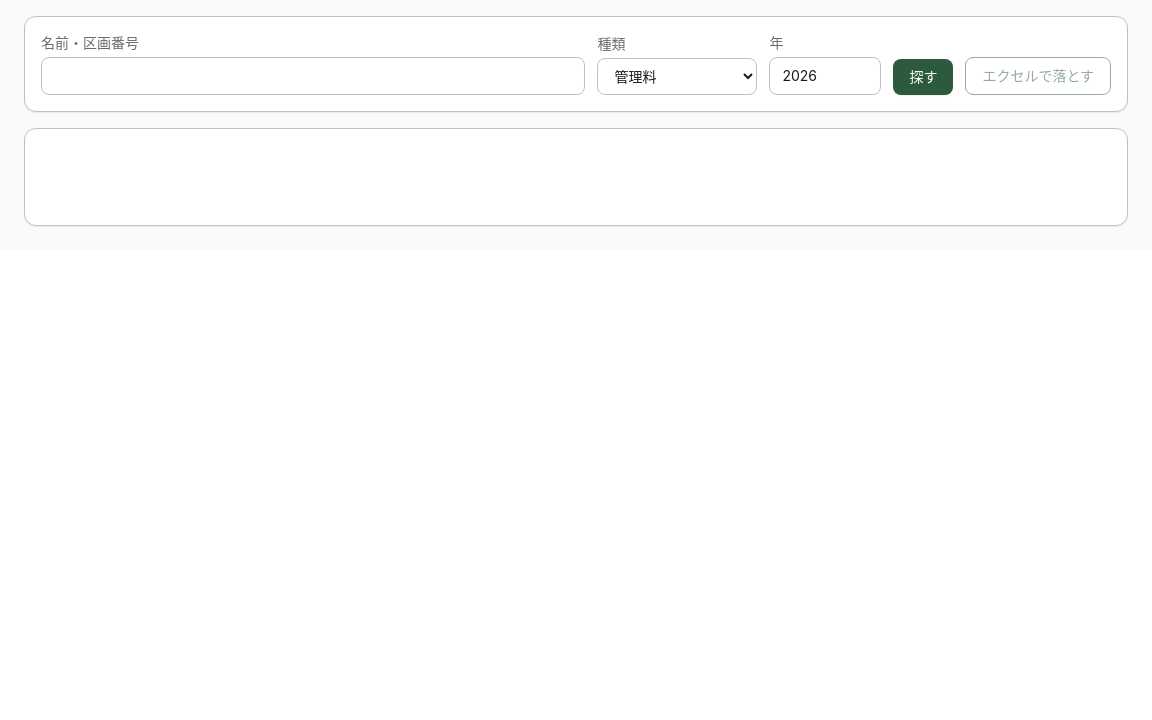
Test: CashierPaymentPage › 行を押して入れると残額入金し、その行が消える
Type "田中" into the field.
click(313, 76); type("田中")  # box x1=41 y1=57 x2=585 y2=95
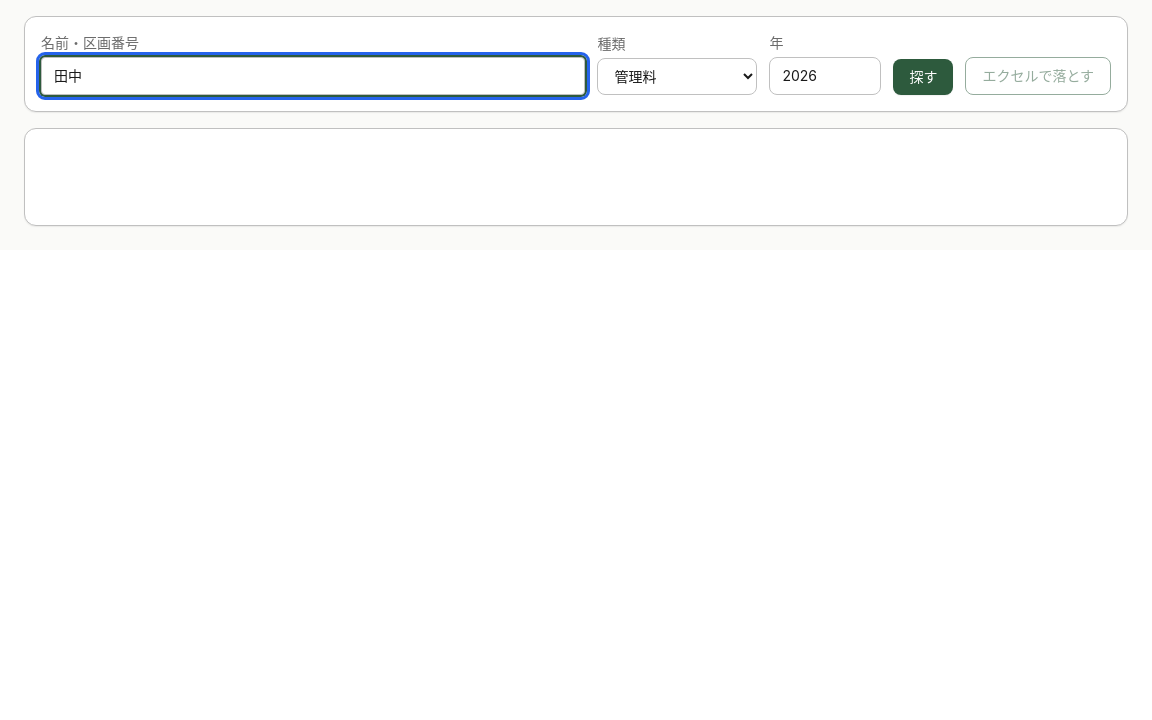
Click the button "探す".
click(923, 77)  # box x1=893 y1=59 x2=953 y2=95
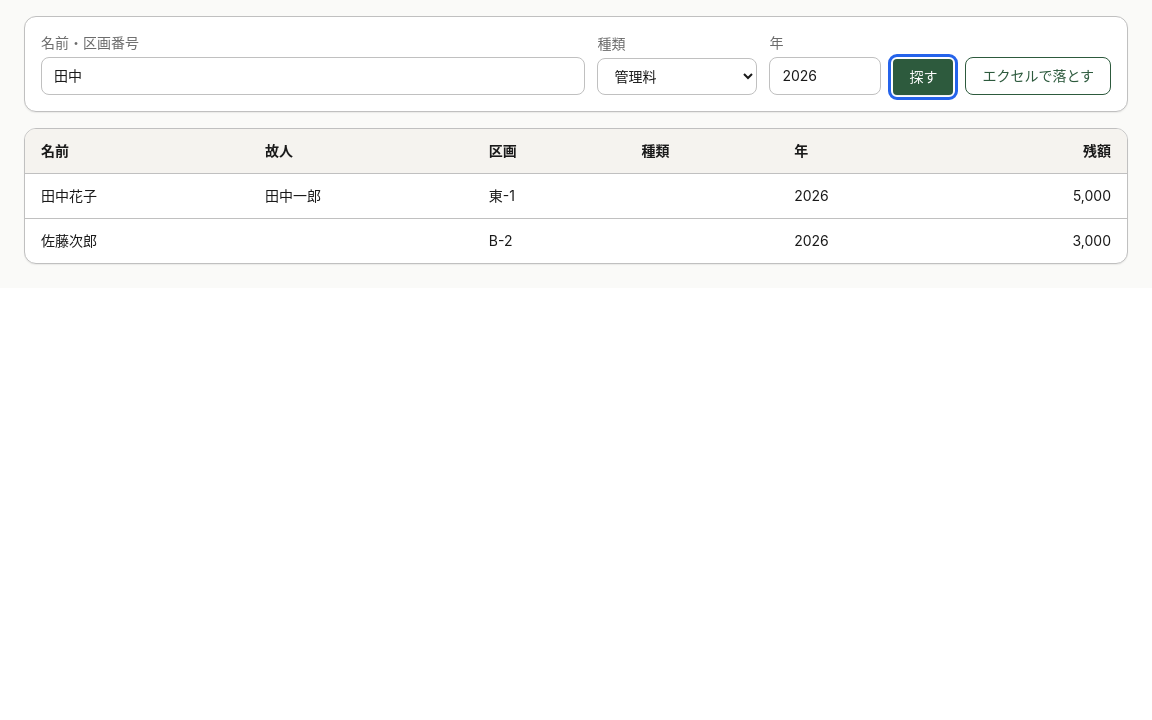
Check: the text "田中花子" is shown
Click the text "田中花子".
click(69, 196)  # box x1=25 y1=174 x2=249 y2=218
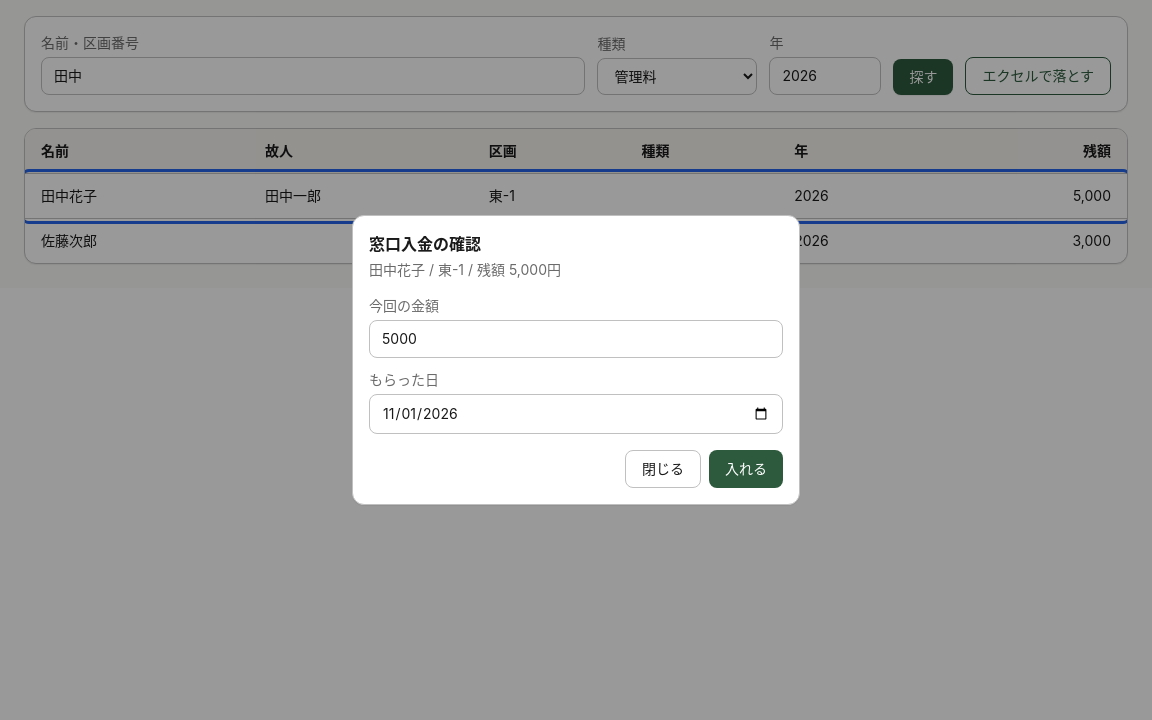
Check: the number field labelled "今回の金額" holds "5000", box x1=369 y1=320 x2=783 y2=358
Click the button "入れる".
click(746, 469)  # box x1=709 y1=450 x2=783 y2=488
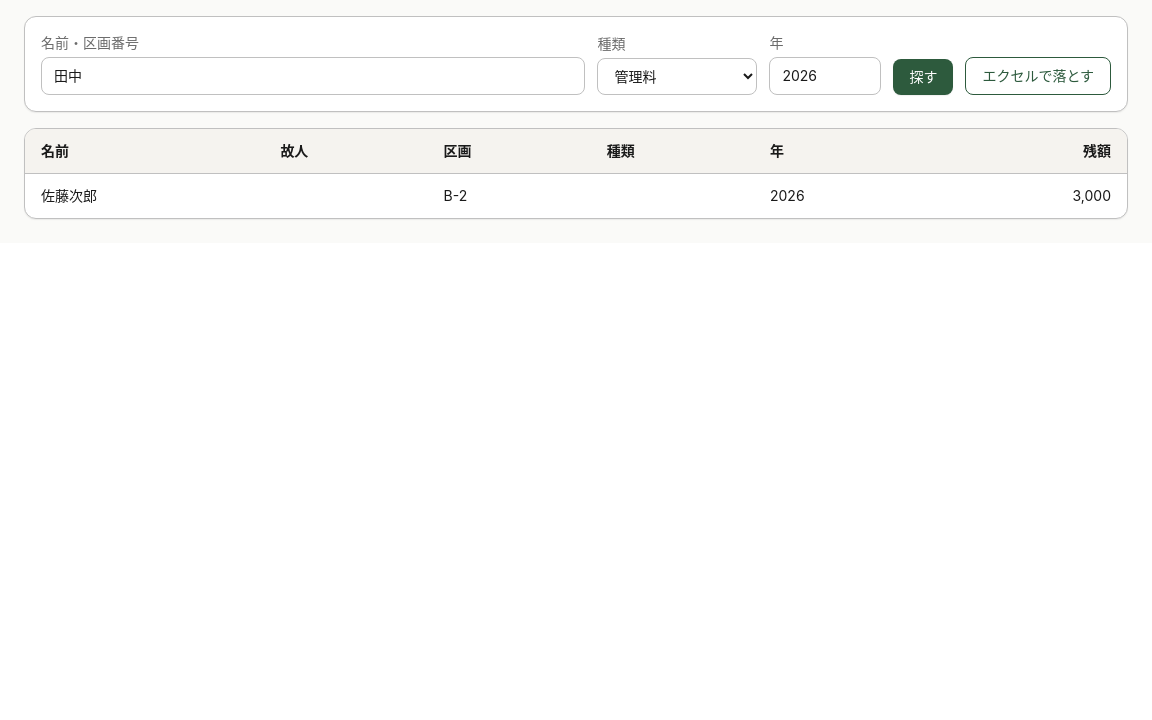
Check: the text "佐藤次郎" is shown, box x1=25 y1=174 x2=264 y2=218
Check: the text "田中花子" is gone
